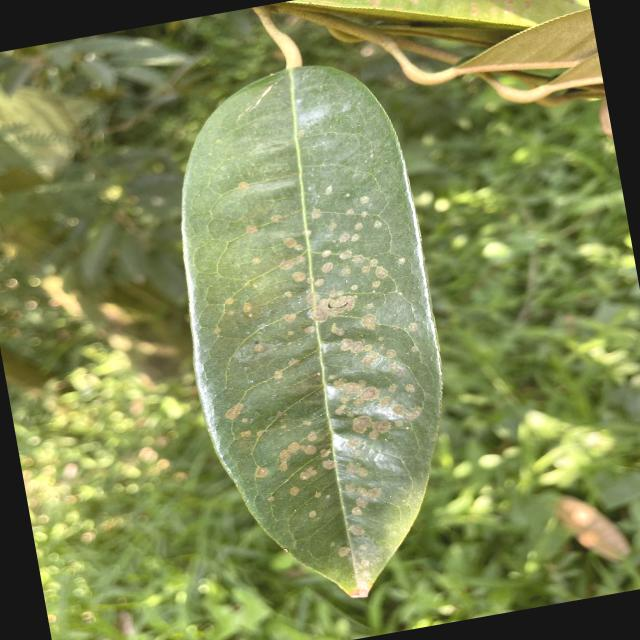Algal Leaf Spot: (130, 34, 490, 634)
